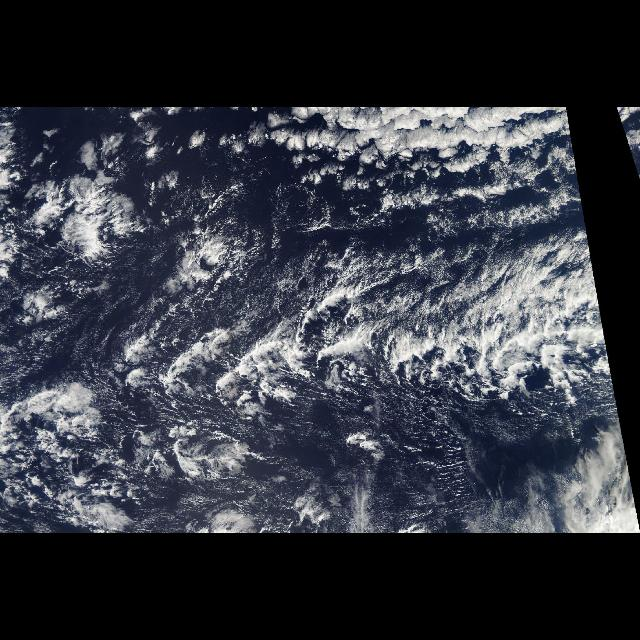Fish: (4, 258, 622, 422)
Gravel: (6, 281, 574, 517)
Sugar: (41, 198, 574, 316)
